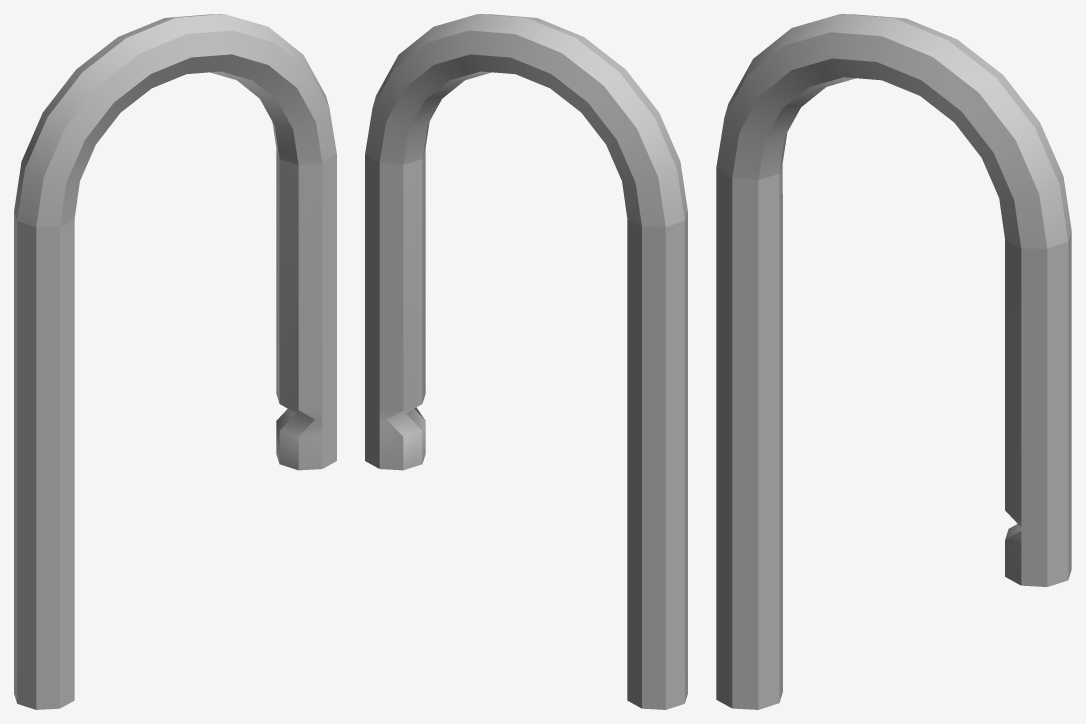
File: SeguroCandado.fbx
3 renders of one model, left to right at view 1: azimuth 30°, elevation 25°; view 2: azimuth 150°, elevation 25°; view 3: azimuth 330°, elevation 25°, orthographic. The views are drawn at different scales.
Visible parts, largest first — view 1: SeguroCandado; view 2: SeguroCandado; view 3: SeguroCandado.
Part boxes in pixels (<box>): SeguroCandado: <box>14,14,336,709</box>; SeguroCandado: <box>365,14,687,709</box>; SeguroCandado: <box>716,14,1071,709</box>.
Size of the model in its own units: 7.9 by 15.43 by 1.35.
